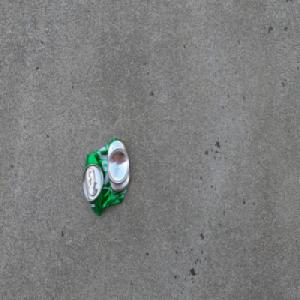SodaCan: (82, 137, 130, 216)
